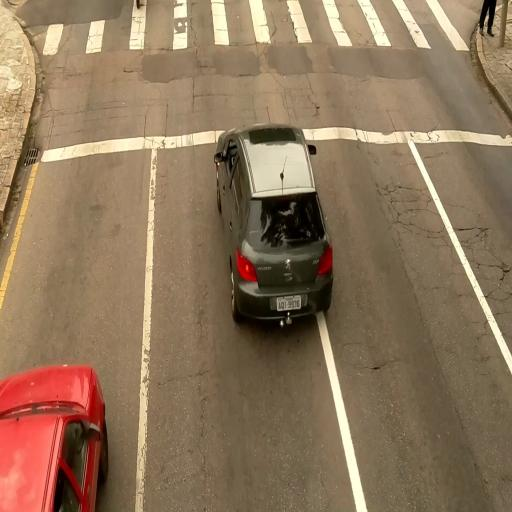car: (212, 117, 336, 339), (3, 349, 127, 508)
